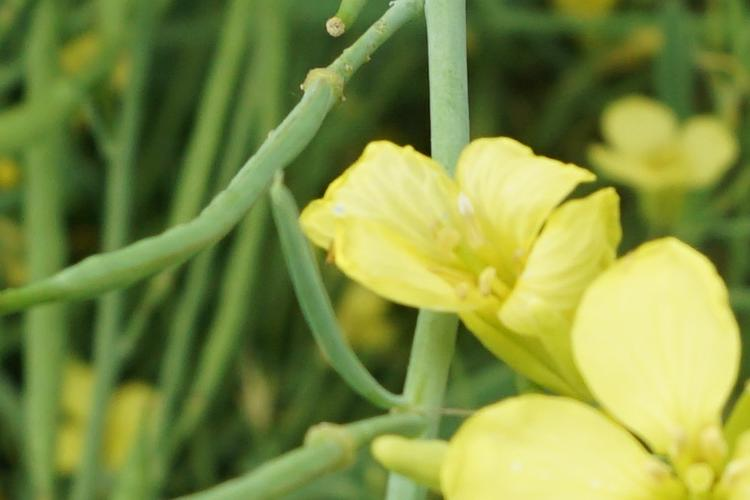pod: (46, 104, 317, 316)
yellow: (464, 256, 750, 491), (323, 142, 603, 344)
